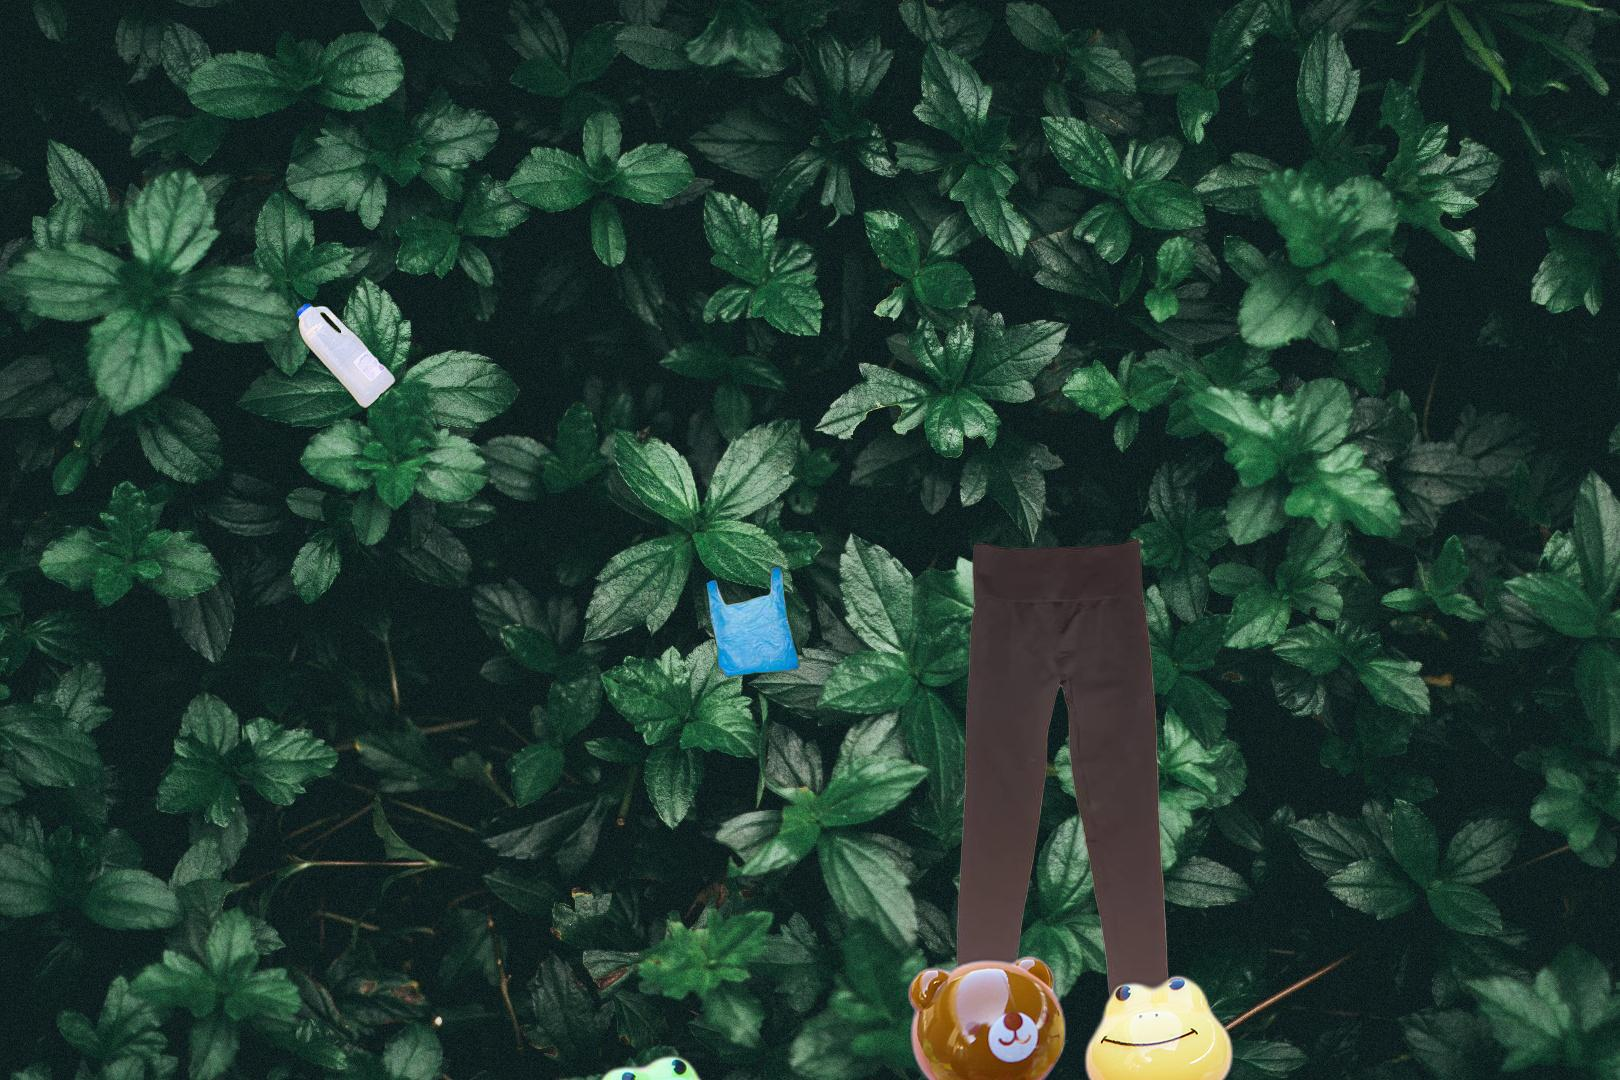clothes: (952, 533, 1170, 1025)
penholder: (585, 949, 1242, 1080)
plastic-bag: (703, 563, 803, 679)
plastic-bottles: (293, 297, 399, 415)
